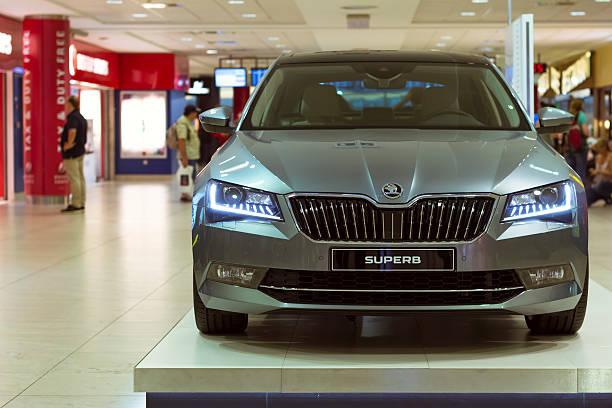skoda: (378, 176, 407, 204)
